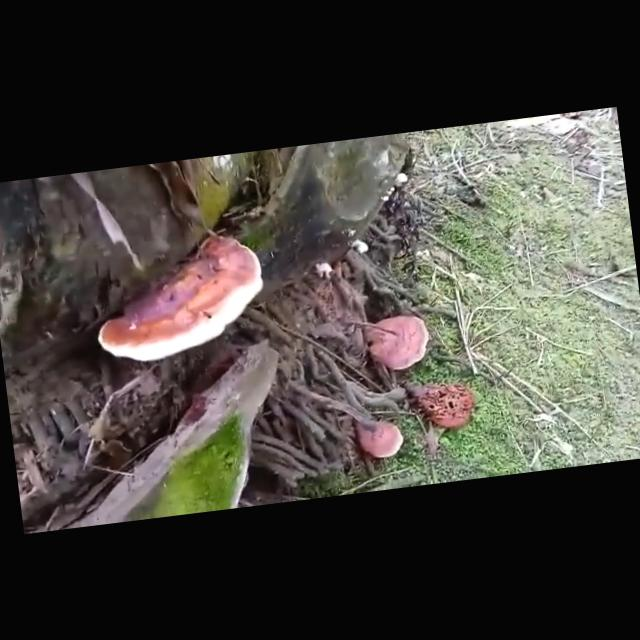ganoderma: (86, 228, 274, 371), (361, 313, 434, 376), (353, 414, 407, 464)
